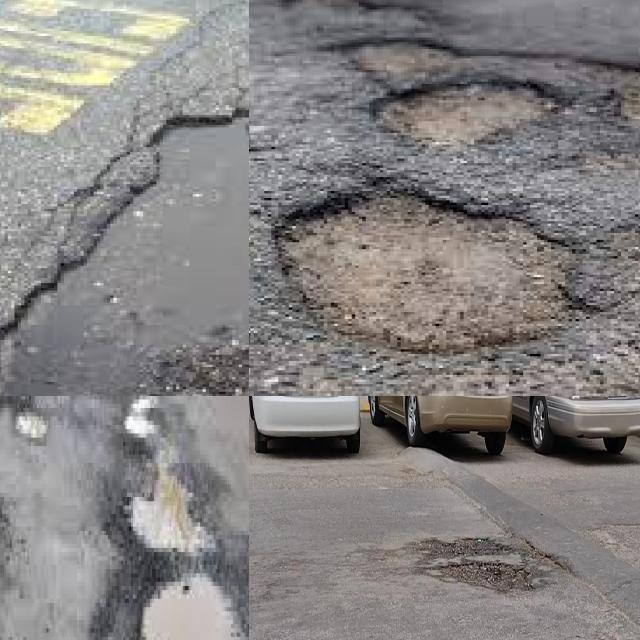Pothole: (282, 196, 640, 396), (0, 112, 249, 396), (352, 42, 640, 144), (430, 533, 532, 591), (142, 578, 234, 640), (133, 467, 191, 552), (317, 0, 397, 23), (125, 396, 156, 450)
